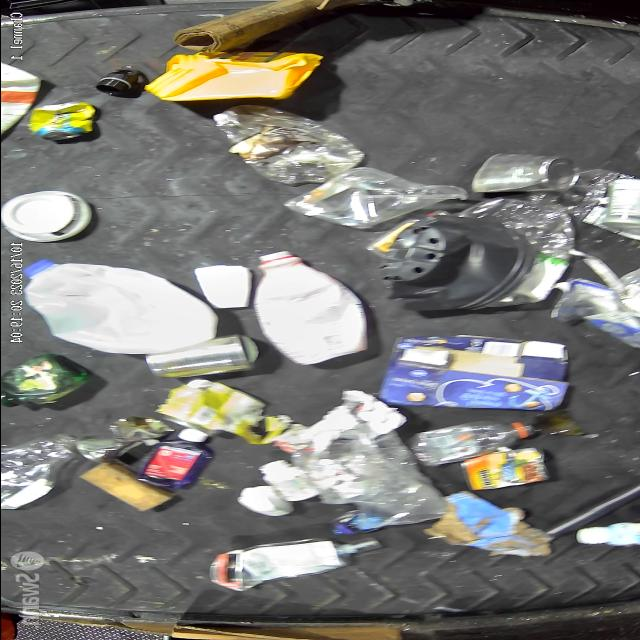can: (138, 336, 268, 380), (462, 152, 580, 192), (452, 448, 546, 496), (28, 96, 104, 149)
milk_jug: (14, 254, 222, 358)
non_white_jug: (144, 47, 320, 106)
plastic_bottle: (407, 415, 548, 463)
